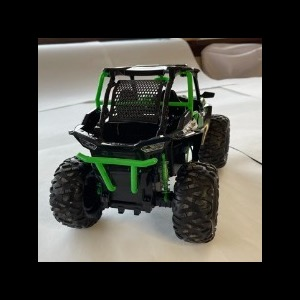polaris: (49, 63, 231, 245)
